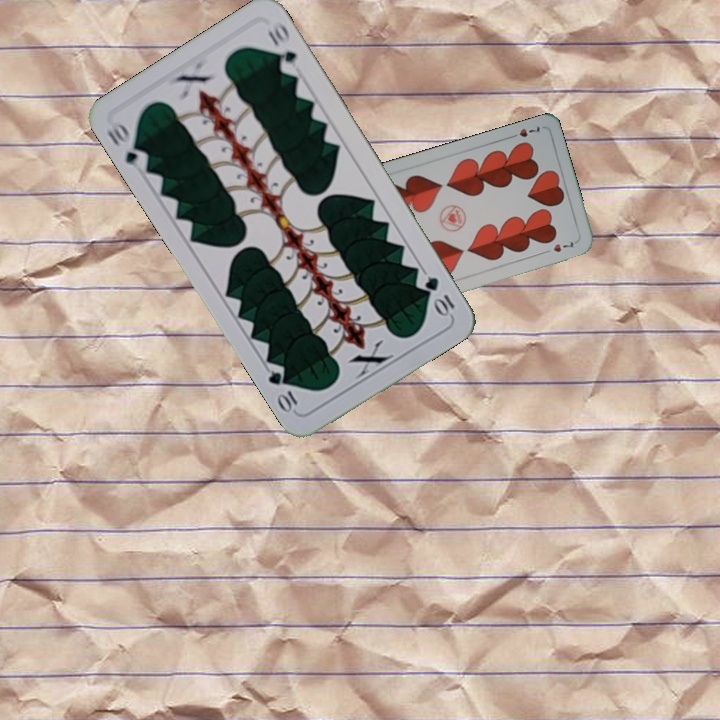G10: (102, 119, 152, 173), (420, 272, 458, 319)
H7: (505, 122, 543, 141)
